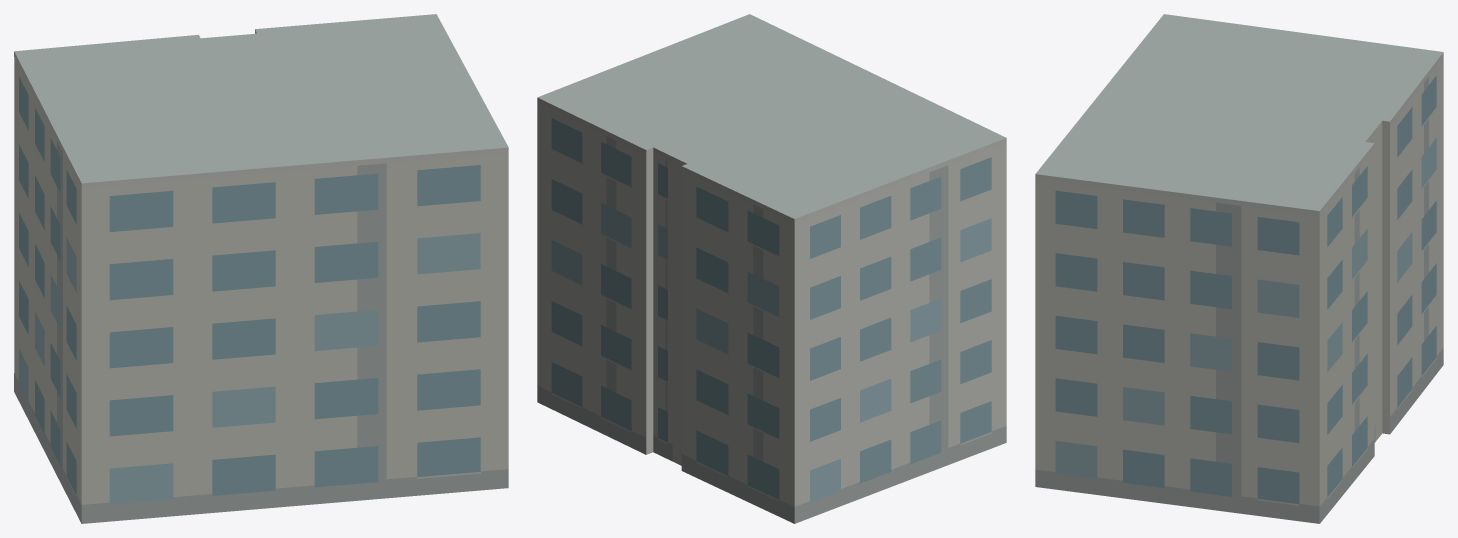
Rendered from survey-upis-32854240.glb.
3 views of the same model, side by side, from view 1: azimuth 30°, elevation 25°; view 2: azimuth 150°, elevation 25°; view 3: azimuth 270°, elevation 25° (orthographic). The views are drawn at different scales.
Parts seen in each view (by area): view 1: survey-upis-32854240.tmp; view 2: survey-upis-32854240.tmp; view 3: survey-upis-32854240.tmp.
Boxes of the visible parts, x1,y1,x2,y2 form: survey-upis-32854240.tmp: [14, 14, 508, 523]; survey-upis-32854240.tmp: [537, 14, 1006, 523]; survey-upis-32854240.tmp: [1035, 14, 1443, 523].
Bounding box in the file's own units: 20.41 × 15.1 × 17.87.
